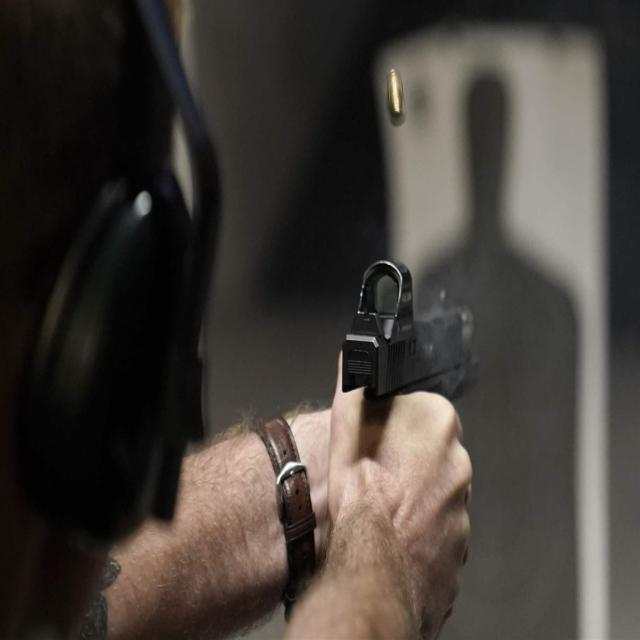HandGun: (339, 260, 479, 402)
